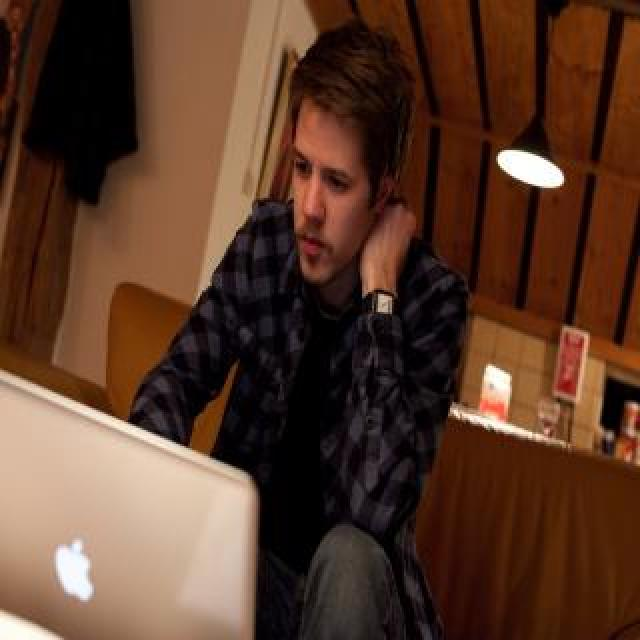laptop_computer: (1, 341, 338, 640)
